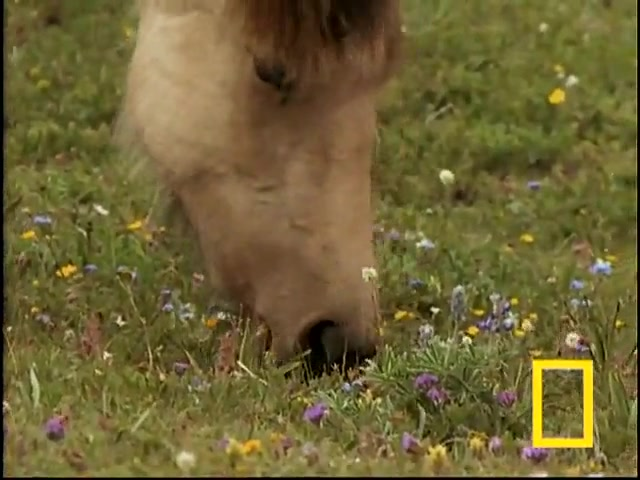horse: (117, 2, 409, 379)
